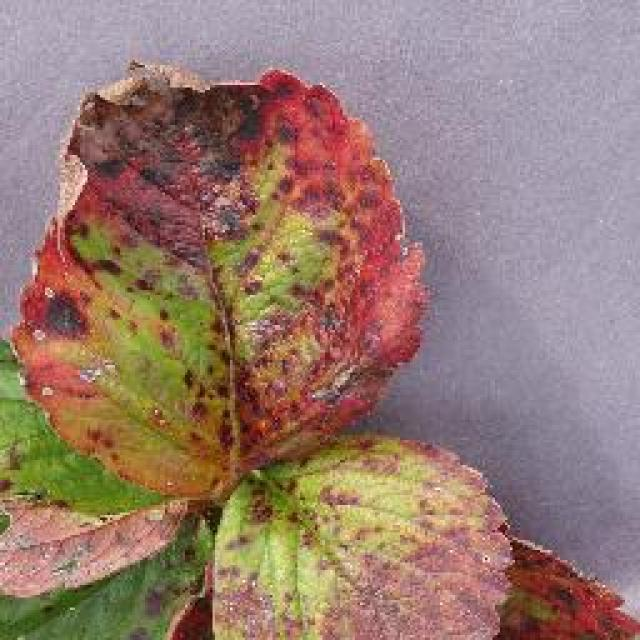Strawberry___Leaf_scorch: (38, 56, 466, 620)
